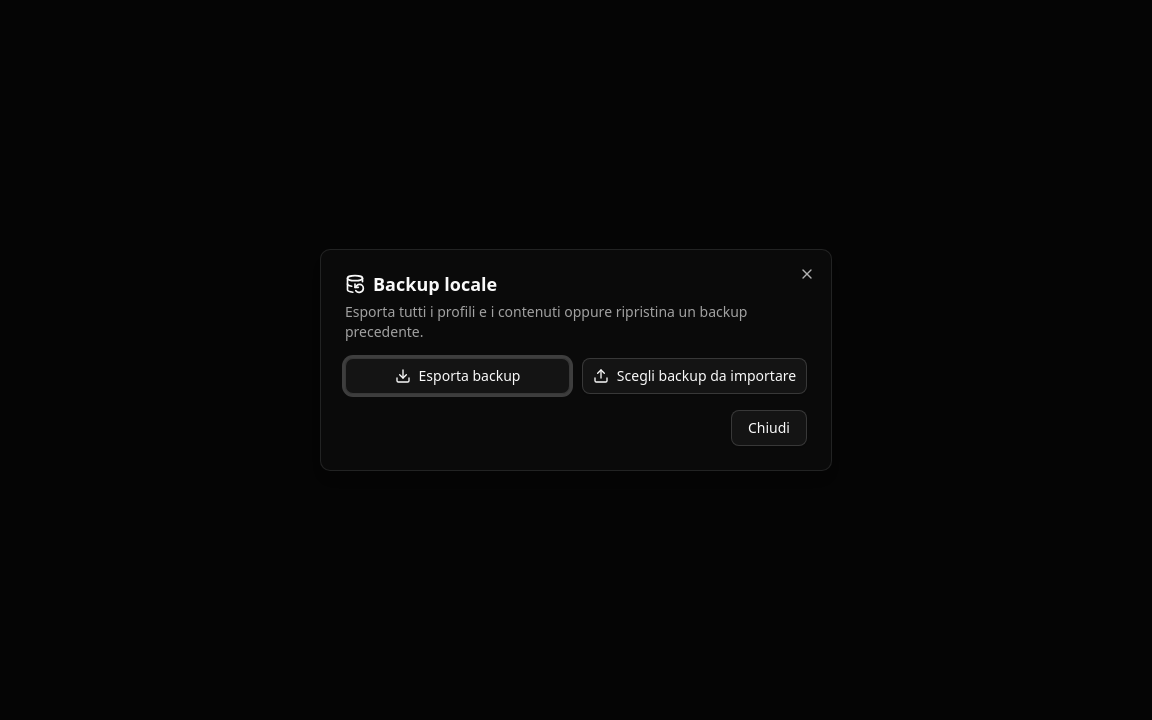
Test: DatabaseBackupDialog › validates the selected file and requires confirmation before restore
Click the button "Scegli backup da importare" at (694, 376), box top-left (582, 358), bottom-right (807, 394)
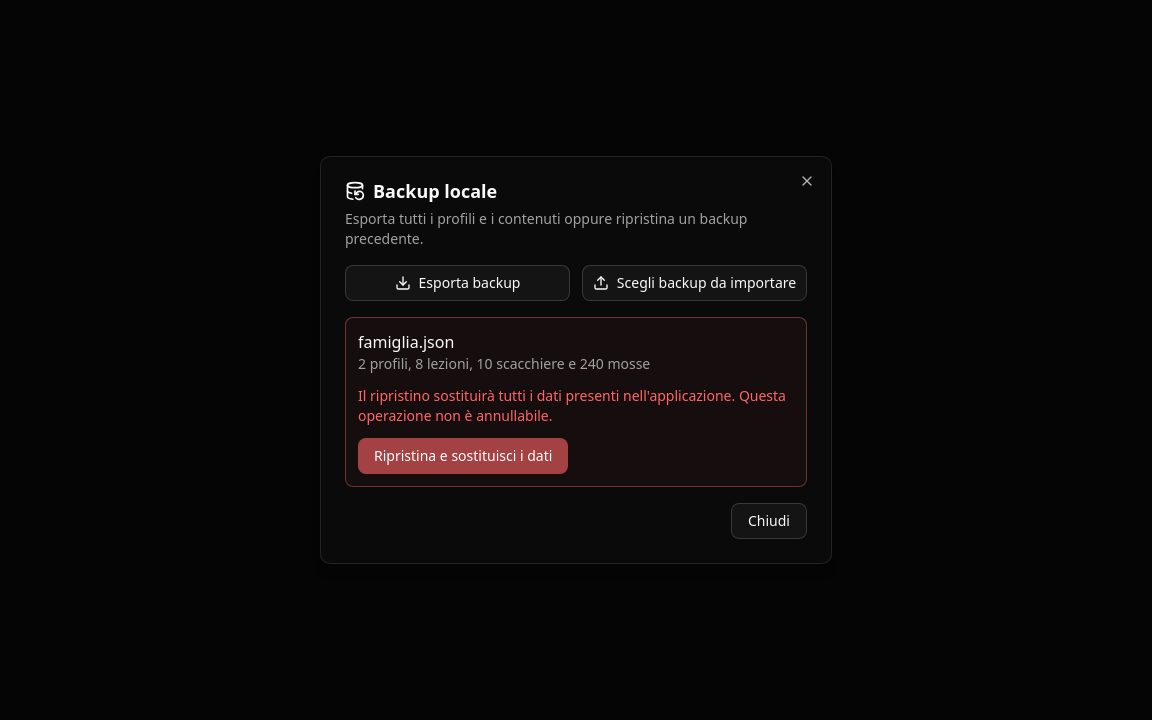
Check: the text "famiglia.json" is shown, box top-left (358, 331), bottom-right (454, 353)
Check: the text "2 profili, 8 lezioni, 10 scacchiere e 240 mosse" is shown, box top-left (358, 354), bottom-right (650, 373)
Click the button "Ripristina e sostituisci i dati" at (463, 456), box top-left (358, 438), bottom-right (568, 474)
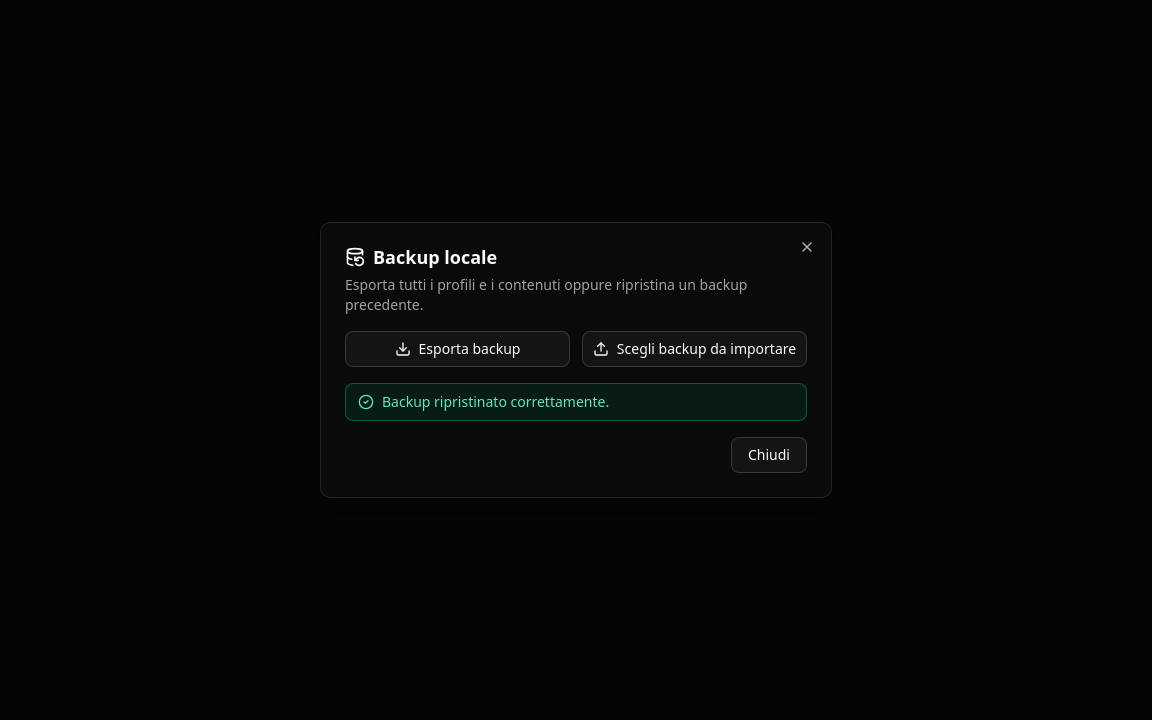
Check: the text "Backup ripristinato correttamente." is shown, box top-left (382, 392), bottom-right (609, 412)
